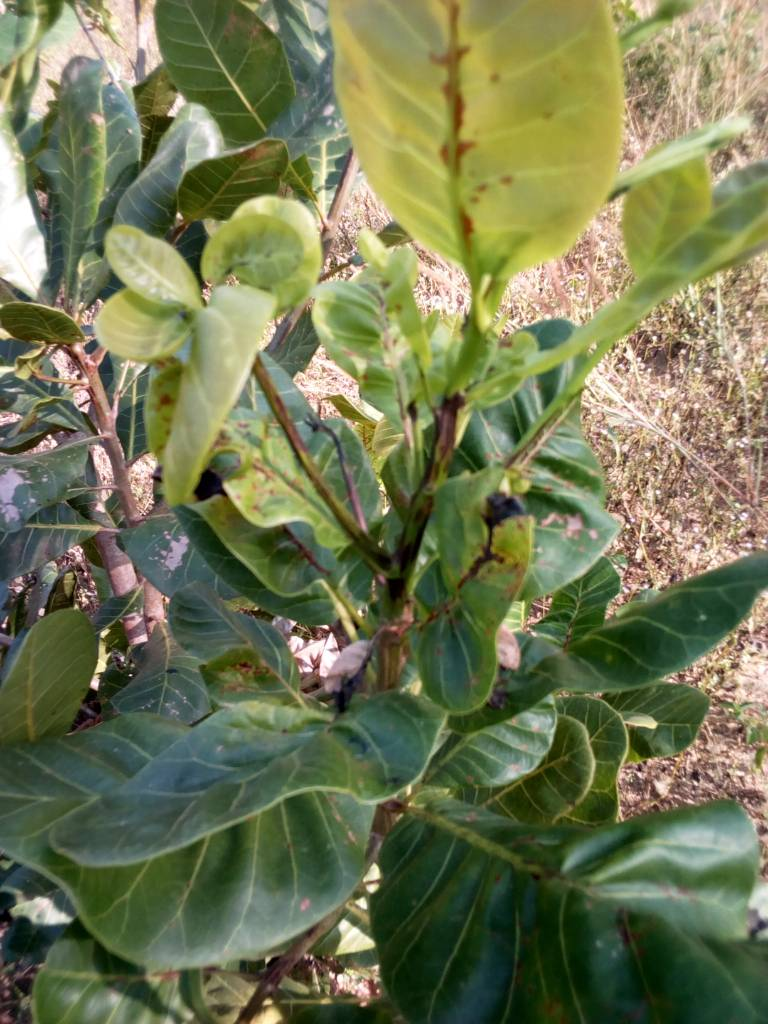Helopeltis anacardii: (57, 703, 421, 861), (183, 441, 366, 624), (418, 463, 527, 711)
